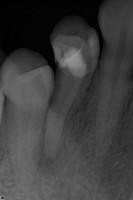Furcation Involvement: (37, 143, 68, 177)
